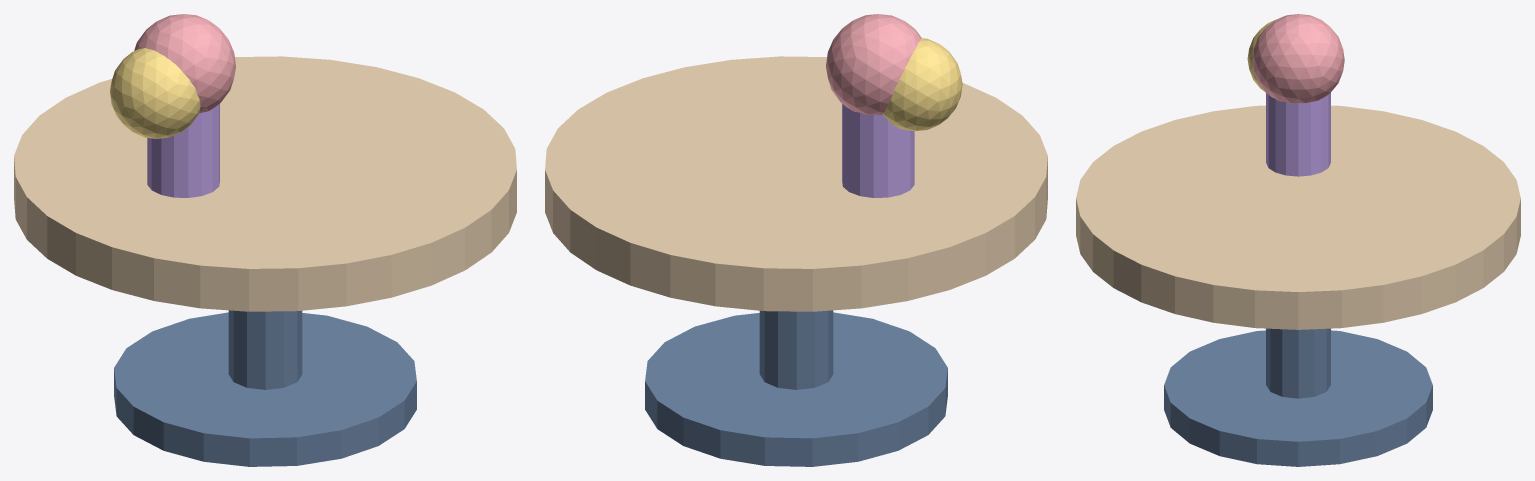
File: coffee_table.glb
The picture shows the model from 3 angles, left to right: view 1: azimuth 30°, elevation 25°; view 2: azimuth 150°, elevation 25°; view 3: azimuth 270°, elevation 25°; orthographic projection. The views are drawn at different scales.
Visible parts, largest first — view 1: tabletop, base, flower2, leg, flower1, vase; view 2: tabletop, base, flower1, leg, vase, flower2; view 3: tabletop, base, flower1, vase, leg.
Boxes of the visible parts, left/top/right/bottom form: tabletop: left=14, top=56, right=516, bottom=311; base: left=114, top=312, right=416, bottom=466; flower2: left=110, top=48, right=200, bottom=138; leg: left=228, top=310, right=302, bottom=389; flower1: left=134, top=14, right=235, bottom=113; vase: left=147, top=104, right=219, bottom=197; tabletop: left=545, top=56, right=1047, bottom=311; base: left=645, top=312, right=947, bottom=466; flower1: left=826, top=14, right=921, bottom=114; leg: left=759, top=310, right=833, bottom=389; vase: left=842, top=104, right=914, bottom=197; flower2: left=883, top=38, right=962, bottom=130; tabletop: left=1076, top=105, right=1520, bottom=329; base: left=1164, top=330, right=1432, bottom=466; flower1: left=1252, top=14, right=1344, bottom=103; vase: left=1266, top=93, right=1330, bottom=176; leg: left=1266, top=328, right=1330, bottom=398.
Size of the model in its own units: 0.96 by 0.85 by 0.96.
